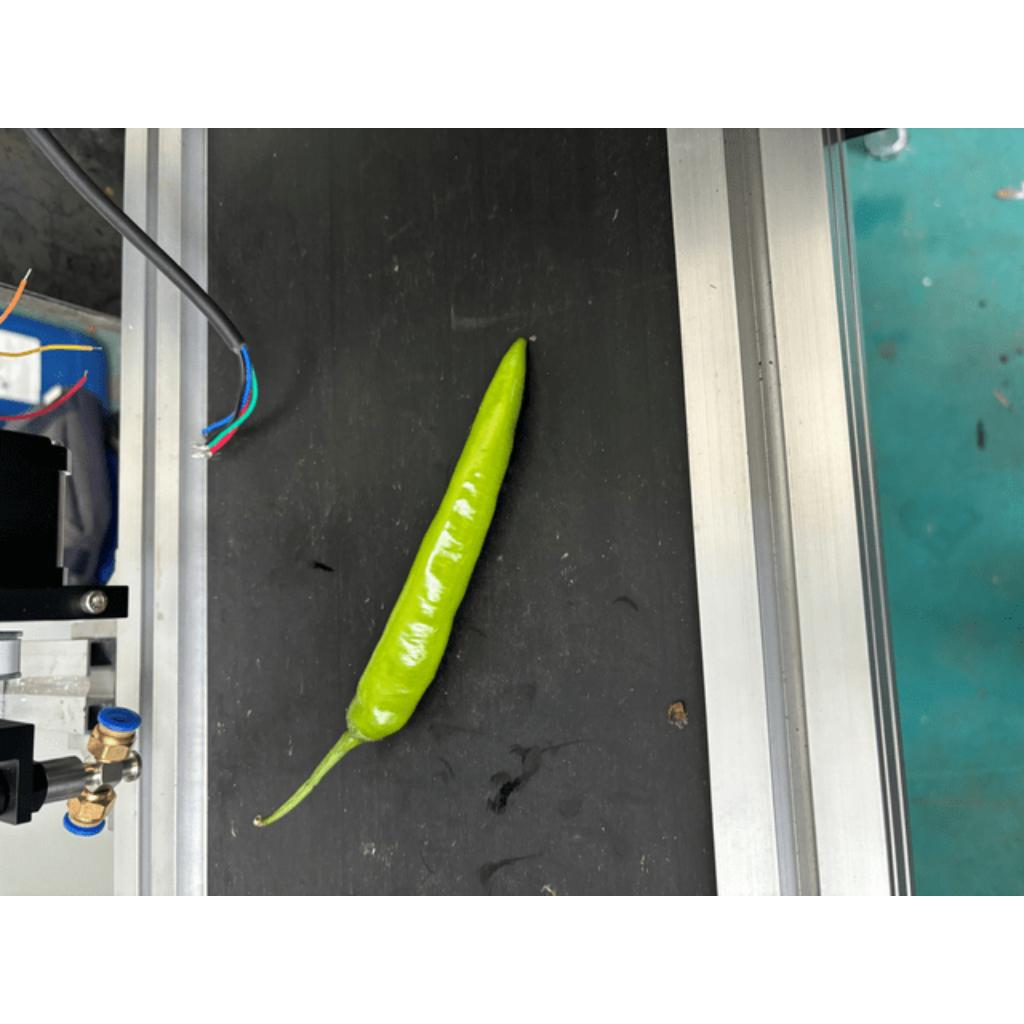chili: (343, 332, 527, 746)
